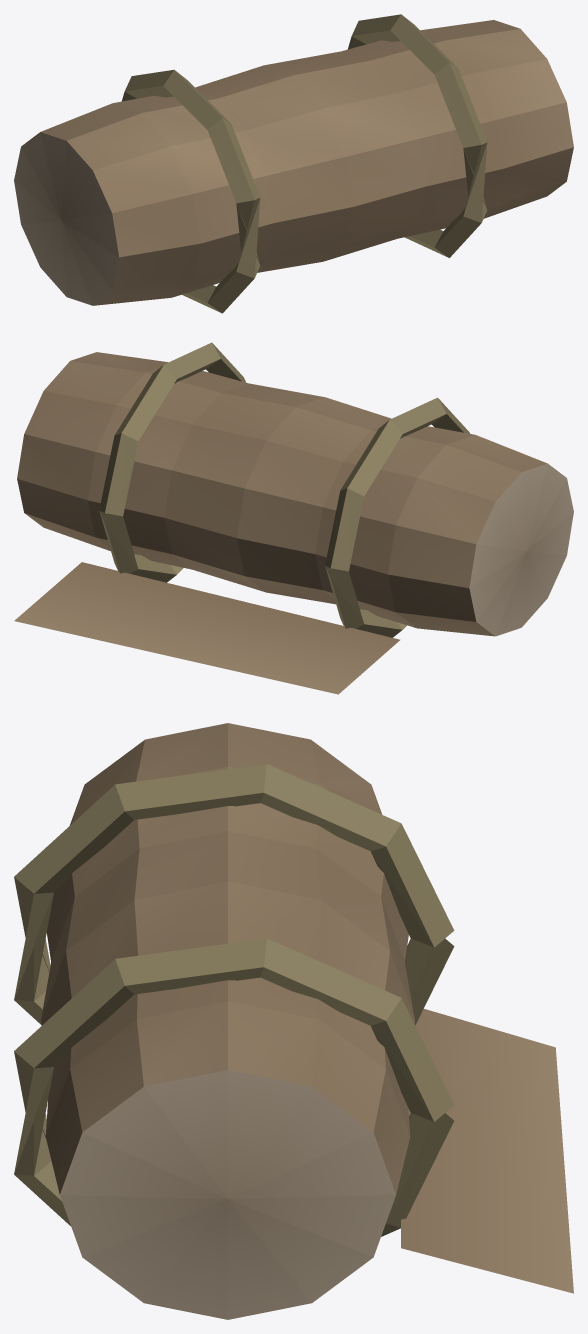
File: drop_hide_a.glb
The picture shows the model from 3 angles, top to bottom: view 1: azimuth 30°, elevation 25°; view 2: azimuth 150°, elevation 25°; view 3: azimuth 270°, elevation 25°; orthographic projection. The views are drawn at different scales.
Visible parts, largest first — view 1: drop_hide_a; view 2: drop_hide_a; view 3: drop_hide_a.
Boxes of the visible parts, x1,y1,x2,y2 form: drop_hide_a: (14,14,573,313); drop_hide_a: (14,342,573,694); drop_hide_a: (14,723,573,1319).
Bounding box in the file's own units: 0.348 × 0.1586 × 0.2306.
